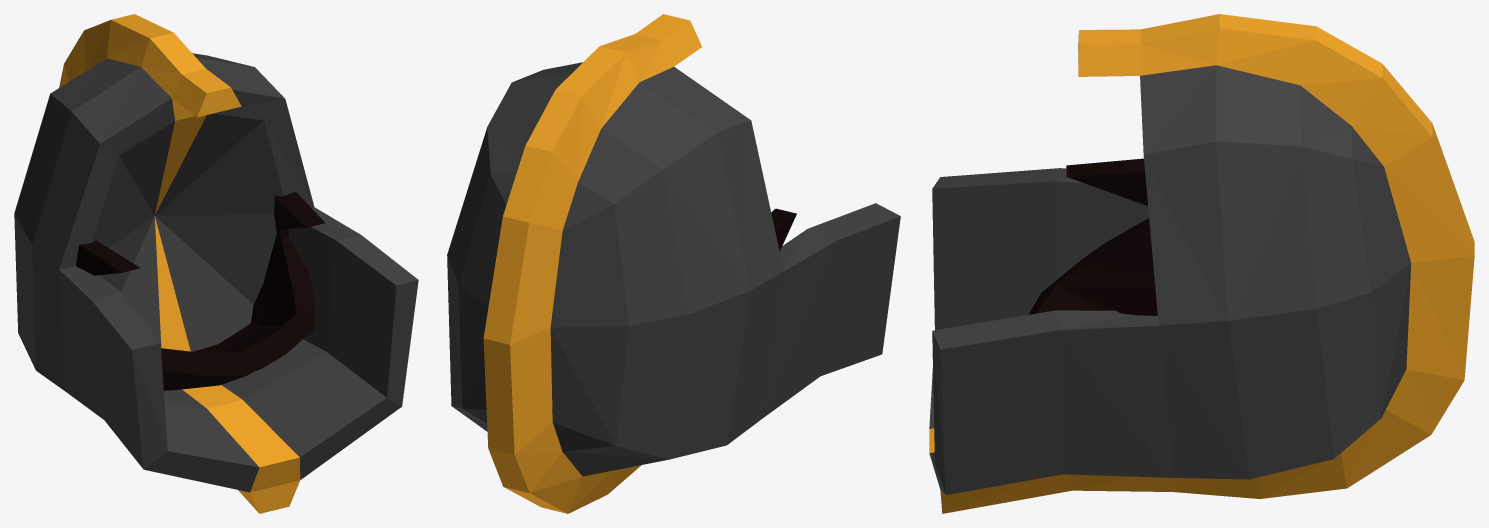
File: Helmet 05.FBX
The picture shows the model from 3 angles, left to right: view 1: azimuth 30°, elevation 25°; view 2: azimuth 150°, elevation 25°; view 3: azimuth 270°, elevation 25°; orthographic projection. The views are drawn at different scales.
Parts seen in each view (by area): view 1: Helmet 05, Hair Headgear; view 2: Helmet 05, Hair Headgear; view 3: Helmet 05, Hair Headgear.
Part boxes in pixels (box(x1,y1,x2,y2)): Helmet 05: box(14, 14, 418, 513); Hair Headgear: box(76, 192, 325, 390); Helmet 05: box(447, 14, 900, 513); Hair Headgear: box(771, 208, 796, 251); Helmet 05: box(929, 14, 1474, 513); Hair Headgear: box(1028, 158, 1157, 315).
Bounding box in the file's own units: 34.04 × 44.5 × 45.45.
